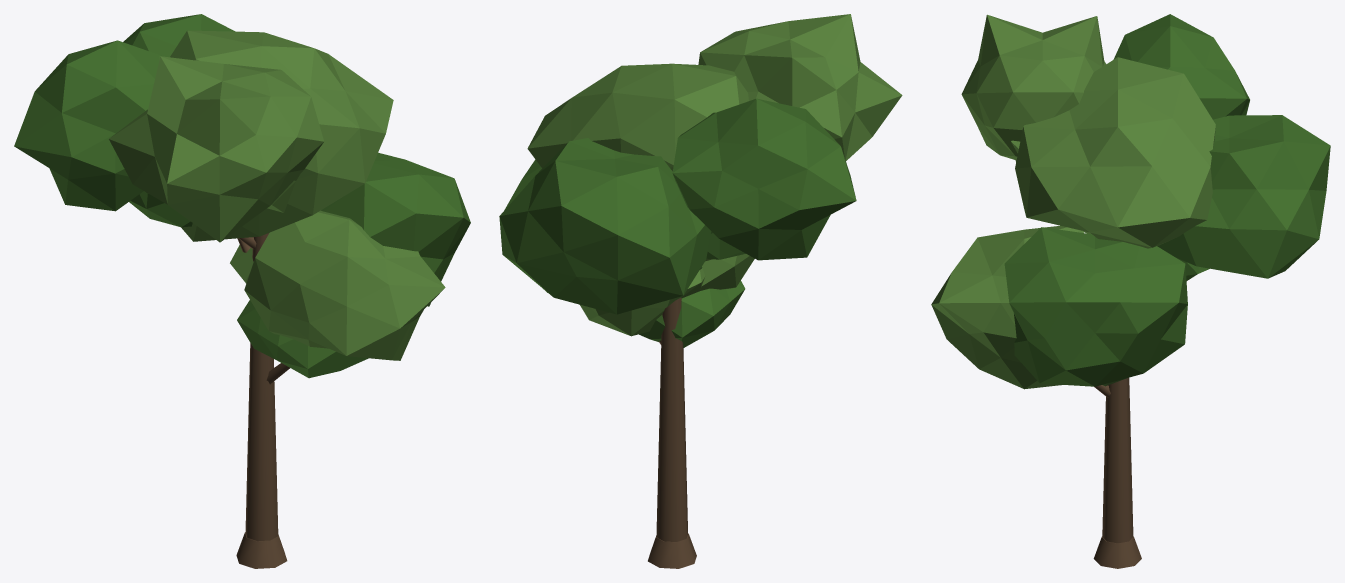
The model's file is tree-broadleaf.glb.
The picture shows the model from 3 angles, left to right: view 1: azimuth 30°, elevation 25°; view 2: azimuth 150°, elevation 25°; view 3: azimuth 270°, elevation 25°; orthographic projection. The views are drawn at different scales.
Visible parts, largest first — view 1: leaves-5-1, leaves-1-1, leaves-top, leaves-4-1, leaves-2-1, trunk, leaves-1-2, leaves-3-1, leaves-4-2; view 2: leaves-3-1, leaves-4-1, leaves-5-1, leaves-top, trunk, leaves-1-2, leaves-2-2, leaves-1-1, leaves-4-2; view 3: leaves-top, leaves-2-1, leaves-3-1, leaves-5-1, leaves-1-1, leaves-4-1, trunk.
Part boxes in pixels (bbox=[...]): leaves-5-1: bbox=[109, 56, 324, 242]; leaves-1-1: bbox=[244, 210, 445, 360]; leaves-top: bbox=[170, 30, 393, 241]; leaves-4-1: bbox=[14, 40, 161, 211]; leaves-2-1: bbox=[321, 152, 470, 306]; trunk: bbox=[236, 233, 287, 568]; leaves-1-2: bbox=[237, 300, 368, 378]; leaves-3-1: bbox=[123, 14, 235, 57]; leaves-4-2: bbox=[129, 191, 192, 227]; leaves-3-1: bbox=[499, 138, 711, 314]; leaves-4-1: bbox=[672, 98, 856, 260]; leaves-5-1: bbox=[698, 14, 902, 160]; leaves-top: bbox=[527, 63, 748, 261]; trunk: bbox=[648, 297, 696, 568]; leaves-1-2: bbox=[639, 280, 745, 347]; leaves-2-2: bbox=[580, 268, 705, 336]; leaves-1-1: bbox=[700, 254, 754, 290]; leaves-4-2: bbox=[706, 231, 745, 259]; leaves-top: bbox=[1015, 57, 1215, 248]; leaves-2-1: bbox=[1004, 227, 1187, 386]; leaves-3-1: bbox=[1157, 115, 1330, 278]; leaves-5-1: bbox=[961, 14, 1105, 159]; leaves-1-1: bbox=[931, 225, 1083, 389]; leaves-4-1: bbox=[1113, 14, 1249, 119]; trunk: bbox=[1093, 377, 1141, 568].
Size of the model in its own units: 5.1 by 6.75 by 4.96.
